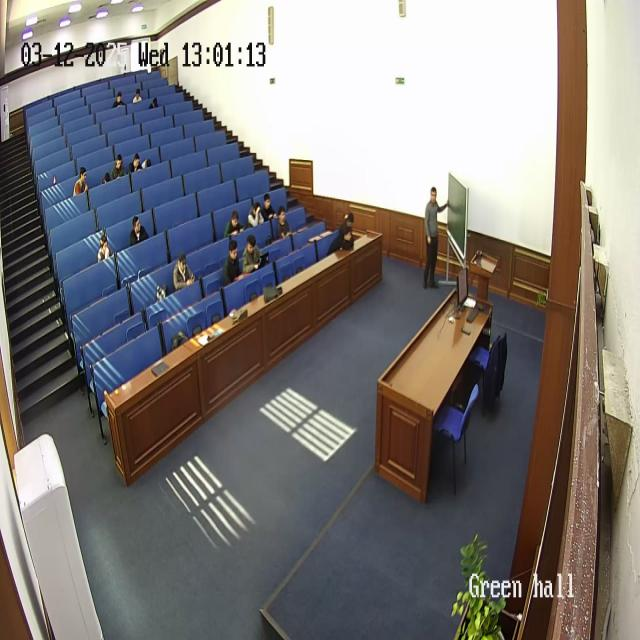person: (421, 184, 450, 289), (329, 212, 357, 254), (220, 239, 242, 287), (240, 233, 264, 274), (172, 252, 195, 292), (130, 214, 150, 247), (274, 207, 292, 241), (224, 211, 244, 239), (96, 232, 114, 263), (247, 202, 266, 228), (73, 167, 89, 197), (260, 193, 276, 222), (110, 152, 126, 181), (130, 152, 144, 176), (112, 90, 126, 108), (132, 88, 144, 105), (147, 96, 159, 110)
